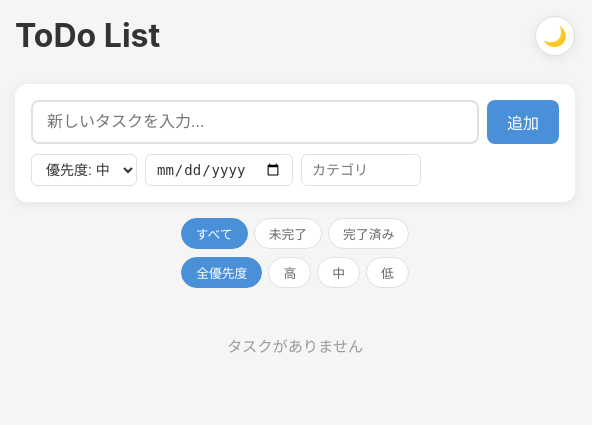
Scenario: App › adds a new todo
Type "テストタスク" into the field with placeholder "新しいタスクを入力..." at (255, 122), box [31, 100, 479, 144]
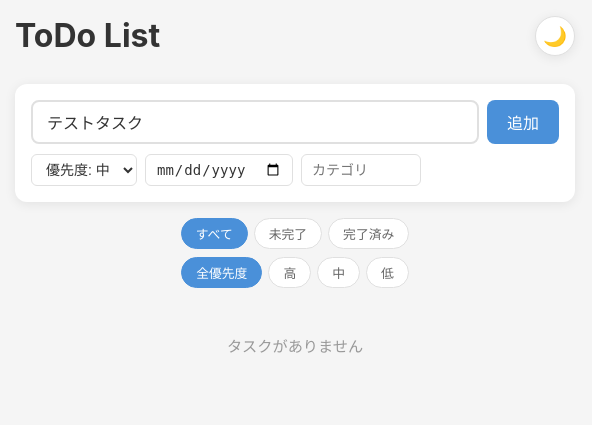
Click the button "追加" at (523, 122), box [487, 100, 559, 144]
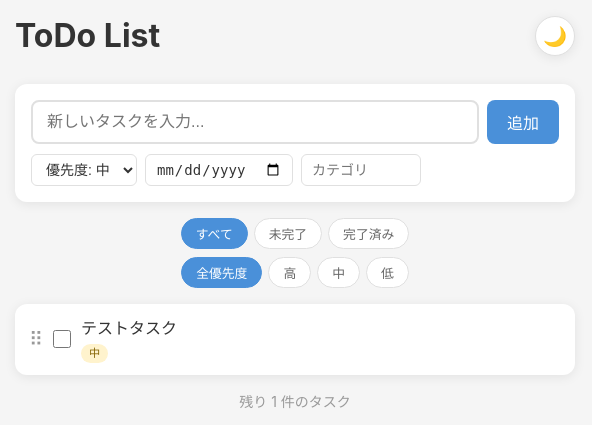
Result: the text "テストタスク" is shown at [81, 318, 177, 338]
